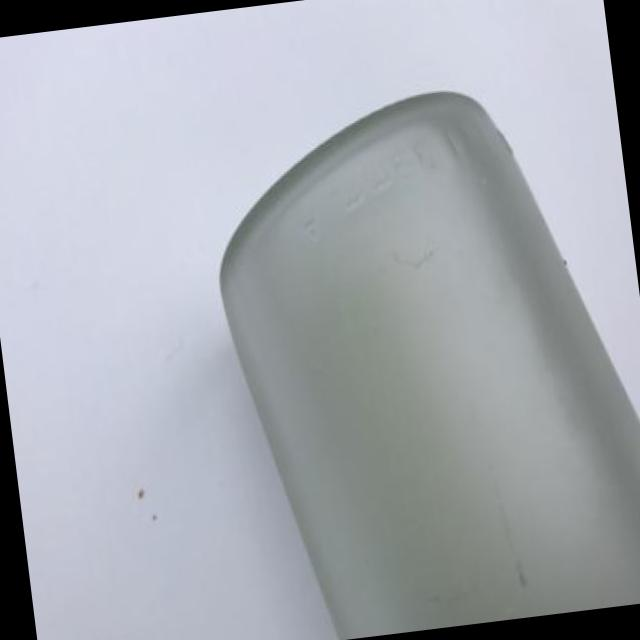chai_thuy_tinh: (220, 91, 640, 640)
